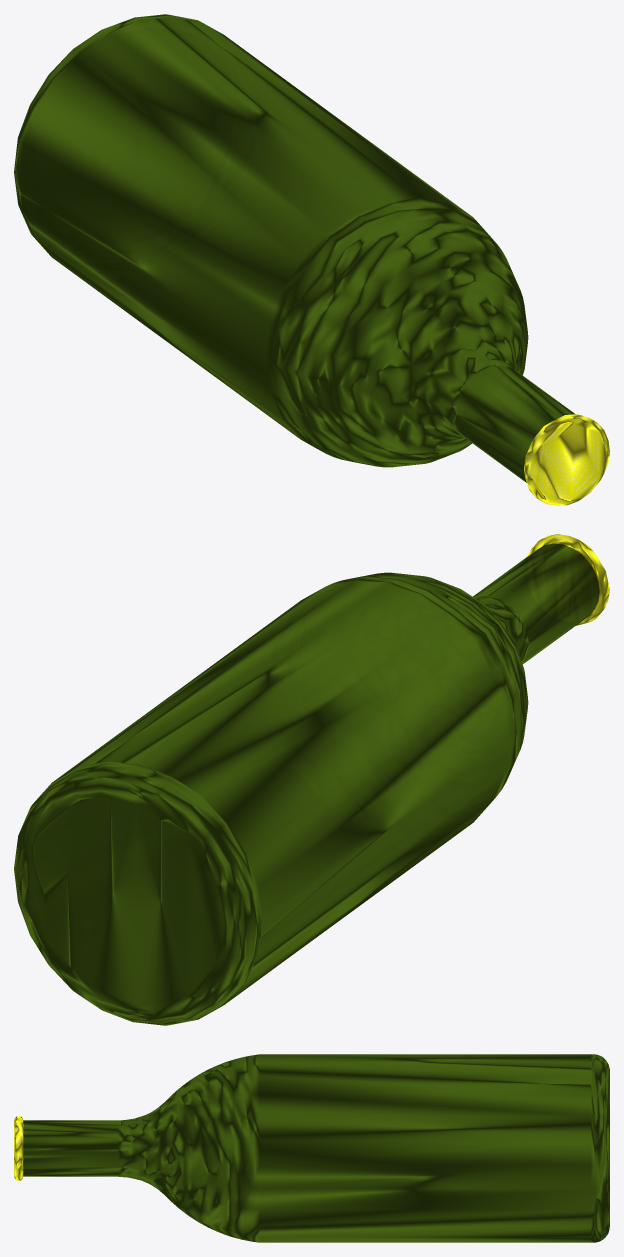
The model's file is model_align.obj.
The picture shows the model from 3 angles, top to bottom: view 1: azimuth 30°, elevation 25°; view 2: azimuth 150°, elevation 25°; view 3: azimuth 270°, elevation 25°; orthographic projection. The views are drawn at different scales.
Size of the model in its own units: 0.0499 by 0.05 by 0.1571.
